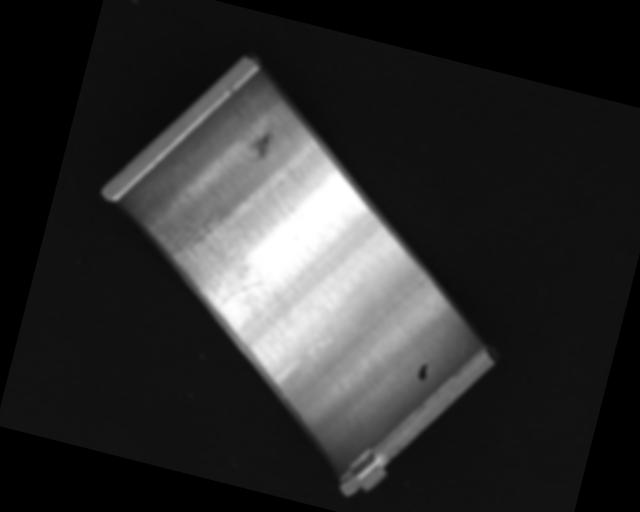blot: (415, 361, 430, 383)
bruise: (247, 129, 273, 164)
nick: (271, 310, 337, 394)
scratch: (131, 197, 295, 333)
